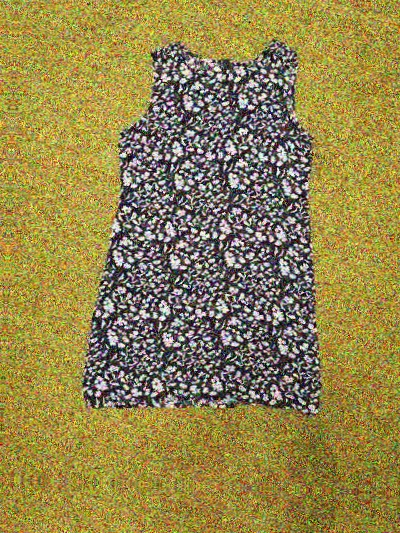Dress: (61, 41, 352, 436)
